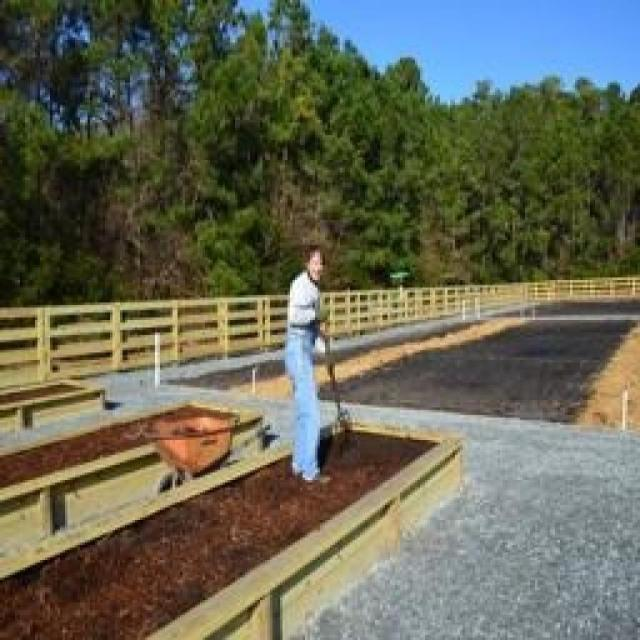Helmet: (262, 268, 337, 378), (294, 228, 350, 286)
